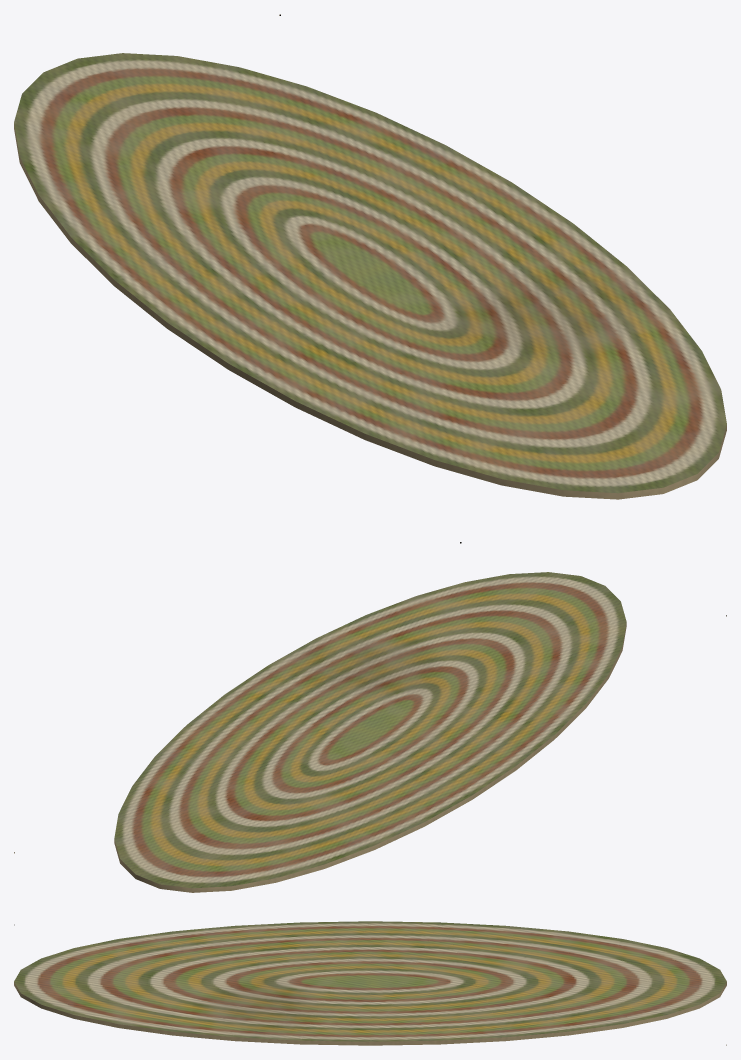
File: H_Rug_Runner.fbx
3 views of the same model, one above another, from view 1: azimuth 30°, elevation 25°; view 2: azimuth 150°, elevation 25°; view 3: azimuth 270°, elevation 25° (orthographic). The views are drawn at different scales.
Parts seen in each view (by area): view 1: H_Rug_Runner; view 2: H_Rug_Runner; view 3: H_Rug_Runner.
Part boxes in pixels (x1,y1,x2,y2): H_Rug_Runner: [14, 14, 726, 543]; H_Rug_Runner: [14, 572, 726, 892]; H_Rug_Runner: [14, 921, 726, 1045].
Bounding box in the file's own units: 400 × 6 × 1000.
Materials: 1 (1 with a texture image).
